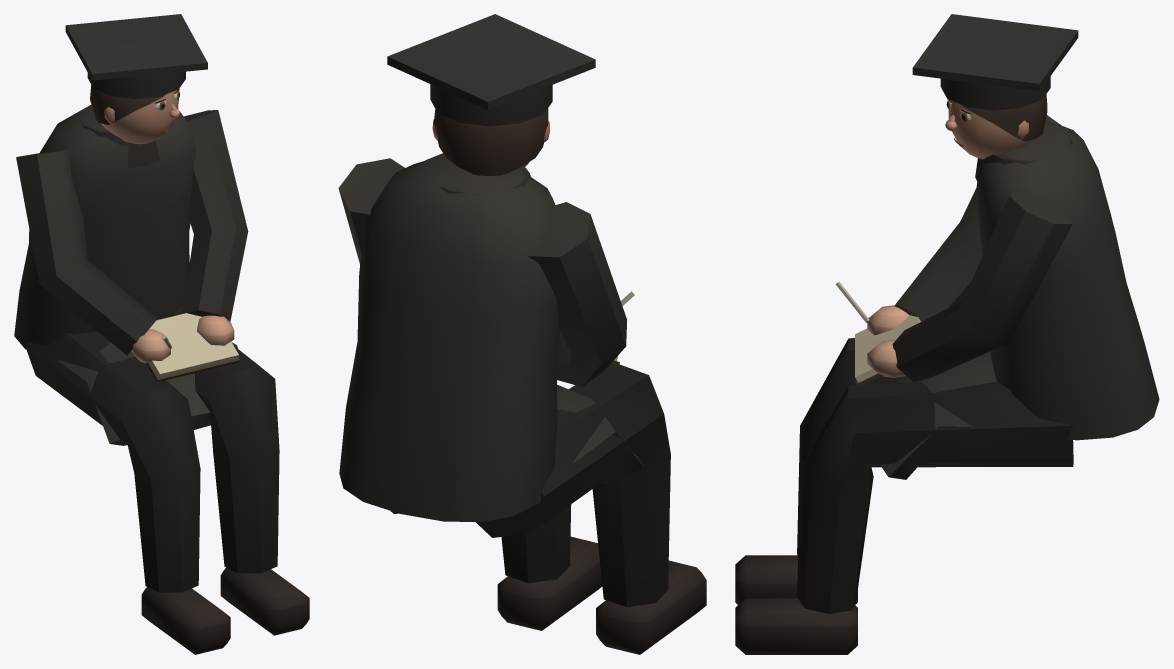
The model's file is ph_chr_student_b.glb.
3 views of the same model, side by side, from view 1: azimuth 30°, elevation 25°; view 2: azimuth 150°, elevation 25°; view 3: azimuth 270°, elevation 25° (orthographic). The views are drawn at different scales.
Visible parts, largest first — view 1: ph_chr_student_b; view 2: ph_chr_student_b; view 3: ph_chr_student_b.
Part boxes in pixels (<box>): ph_chr_student_b: <box>14,14,309,654</box>; ph_chr_student_b: <box>338,14,706,654</box>; ph_chr_student_b: <box>735,14,1159,654</box>.
Bounding box in the file's own units: 0.5152 × 1.25 × 0.8315.
